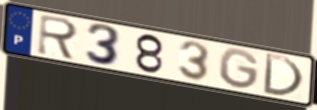3: (84, 23, 124, 68), (177, 40, 211, 83)
8: (134, 33, 164, 74)
D: (261, 52, 306, 99)
G: (218, 47, 261, 92)
R: (35, 13, 81, 62)
